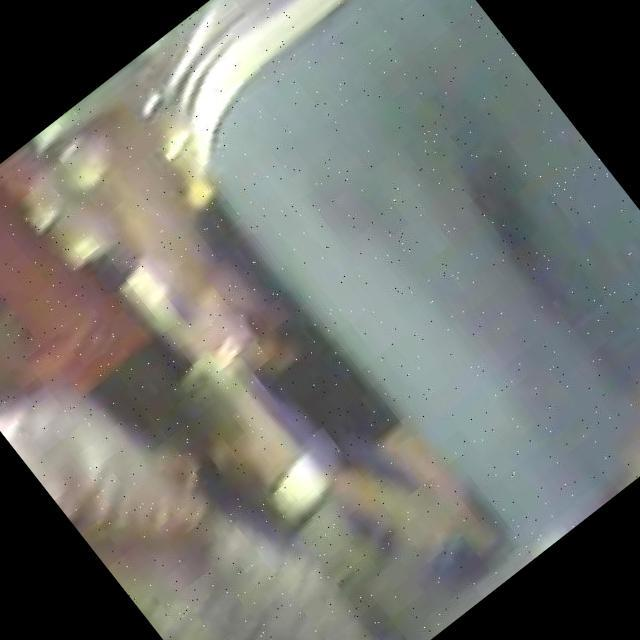person: (44, 0, 640, 633), (0, 198, 402, 640), (0, 143, 194, 479)
